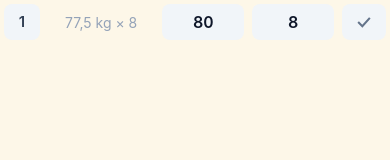
Test: SetRow › opens the set menu aligned to the left of the narrow number cell
Click the button named "Serie 1". click: (22, 22)
box: left=4, top=4, right=40, bottom=40
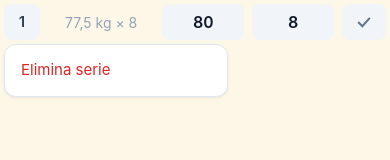
Result: the menu item "Elimina serie" is shown at left=5, top=49, right=227, bottom=92
